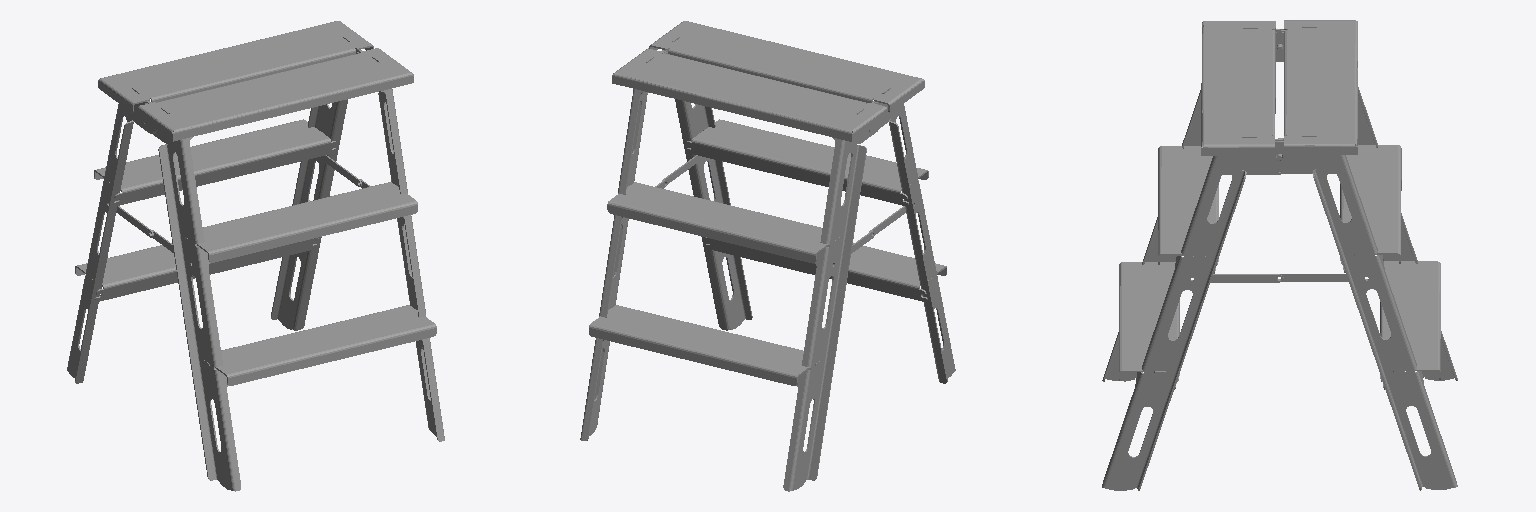
URDF robot description (apple):
<?xml version="1.0" encoding="utf-8"?>
<robot name="apple">
  <link name="base_link">
    <contact>
      <lateral_friction value="0.5"/>
      <rolling_friction value="0.0"/>
      <contact_cfm value="0.0"/>
      <contact_erp value="1.0"/>
    </contact>
    <inertial>
      <origin rpy="0 0 0" xyz="0 0 0"/>
      <mass value="2"/>
      <inertia ixx="0" ixy="0" ixz="0" iyy="0" iyz="0" izz="0"/>
    </inertial>
    <visual>
      <origin rpy="1.57 0 3.14" xyz="-0.5 0 1.3"/>
      <geometry>
        <mesh filename="models/meshes/ladder/ladder.stl" scale="2 2 2"/>
      </geometry>
      <material name="hi">
        <color rgba="0.65 0.65 0.65 1"/>
      </material>
    </visual>
    <collision>
      <origin rpy="1.57 0 3.14" xyz="-0.5 0 1.3"/>
      <geometry>
        <mesh filename="models/meshes/stool/stool.obj" scale="1 1 1"/>
      </geometry>
    </collision>
  </link>
</robot>

--- What the picture shows (computed from the rendered views, not written in the file) ---
3 views of the same robot in one strip: view 1: azimuth 30°, elevation 25°; view 2: azimuth 150°, elevation 25°; view 3: azimuth 270°, elevation 25° (orthographic).
Robot: apple — 1 links, 0 joints (none); root link base_link; default pose: all joints at 0.
Visible links, largest first — view 1: base_link; view 2: base_link; view 3: base_link.
Link boxes in pixels (x1=…): base_link: x1=67, y1=21, x2=444, y2=491; base_link: x1=580, y1=21, x2=955, y2=491; base_link: x1=1102, y1=20, x2=1457, y2=490.
Size in the robot's own frame: 1.01 by 1.2 by 1.32 metres.
Meshes: 1 distinct files referenced, 1 mesh visuals loaded (1 binary STL).